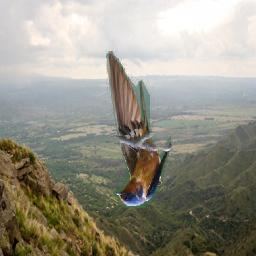Swallow: (106, 52, 172, 209)
